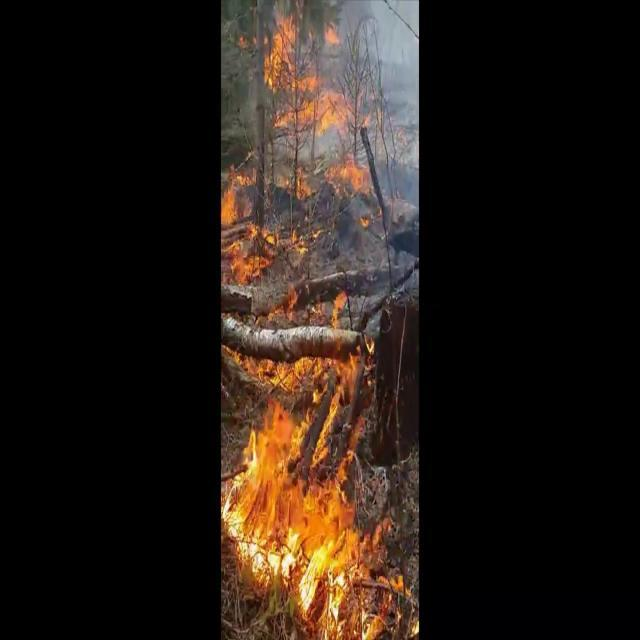Fire: (220, 6, 388, 628)
